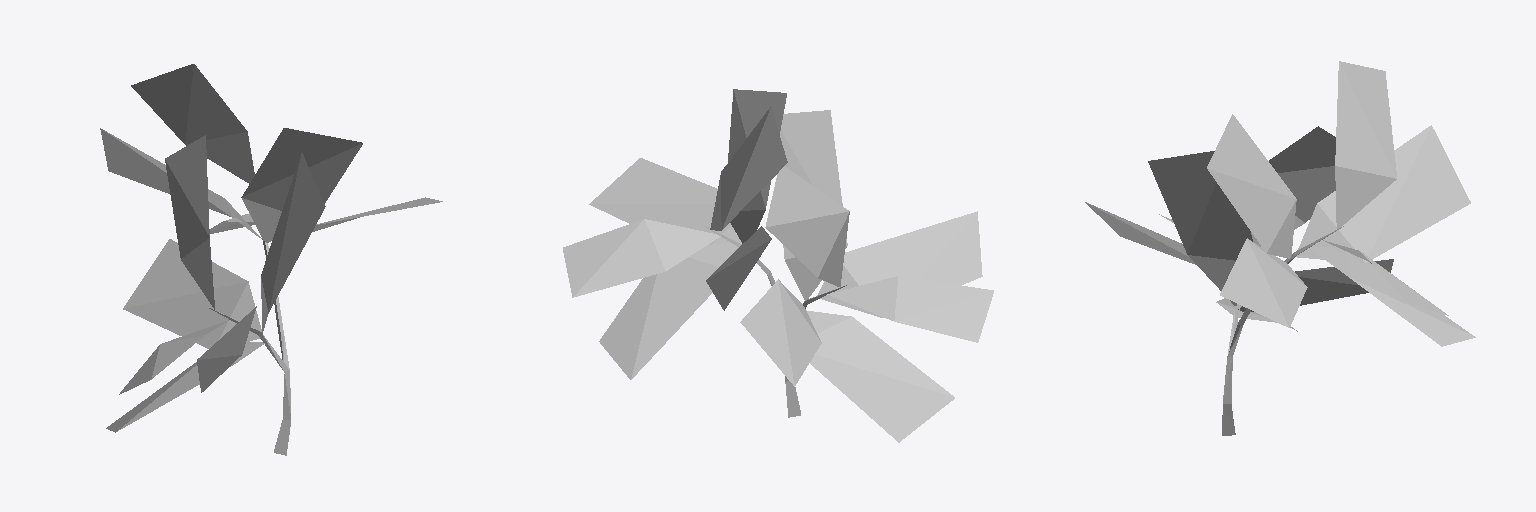
Rendered from obj__banan2.obj.
The picture shows the model from 3 angles: view 1: azimuth 30°, elevation 25°; view 2: azimuth 150°, elevation 25°; view 3: azimuth 270°, elevation 25°; orthographic projection.
Visible parts, largest first — view 1: banan2.tga; view 2: banan2.tga; view 3: banan2.tga.
Boxes of the visible parts, box(x1,y1,x2,y2) form: banan2.tga: box(100, 64, 442, 455); banan2.tga: box(563, 89, 993, 442); banan2.tga: box(1085, 61, 1475, 435).
Size of the model in its own units: 172 by 169 by 167.